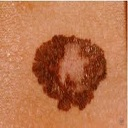Melanoma: (34, 33, 106, 105)
